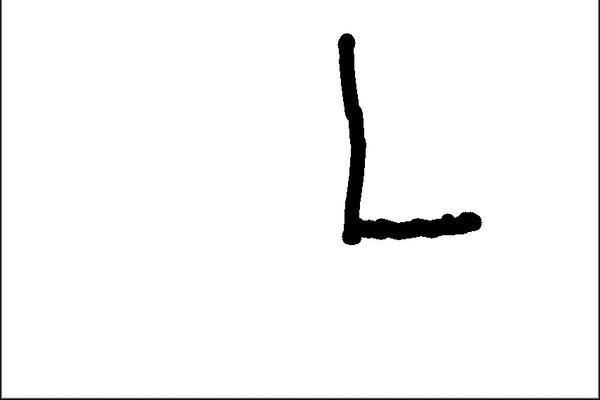L: (329, 26, 486, 251)
